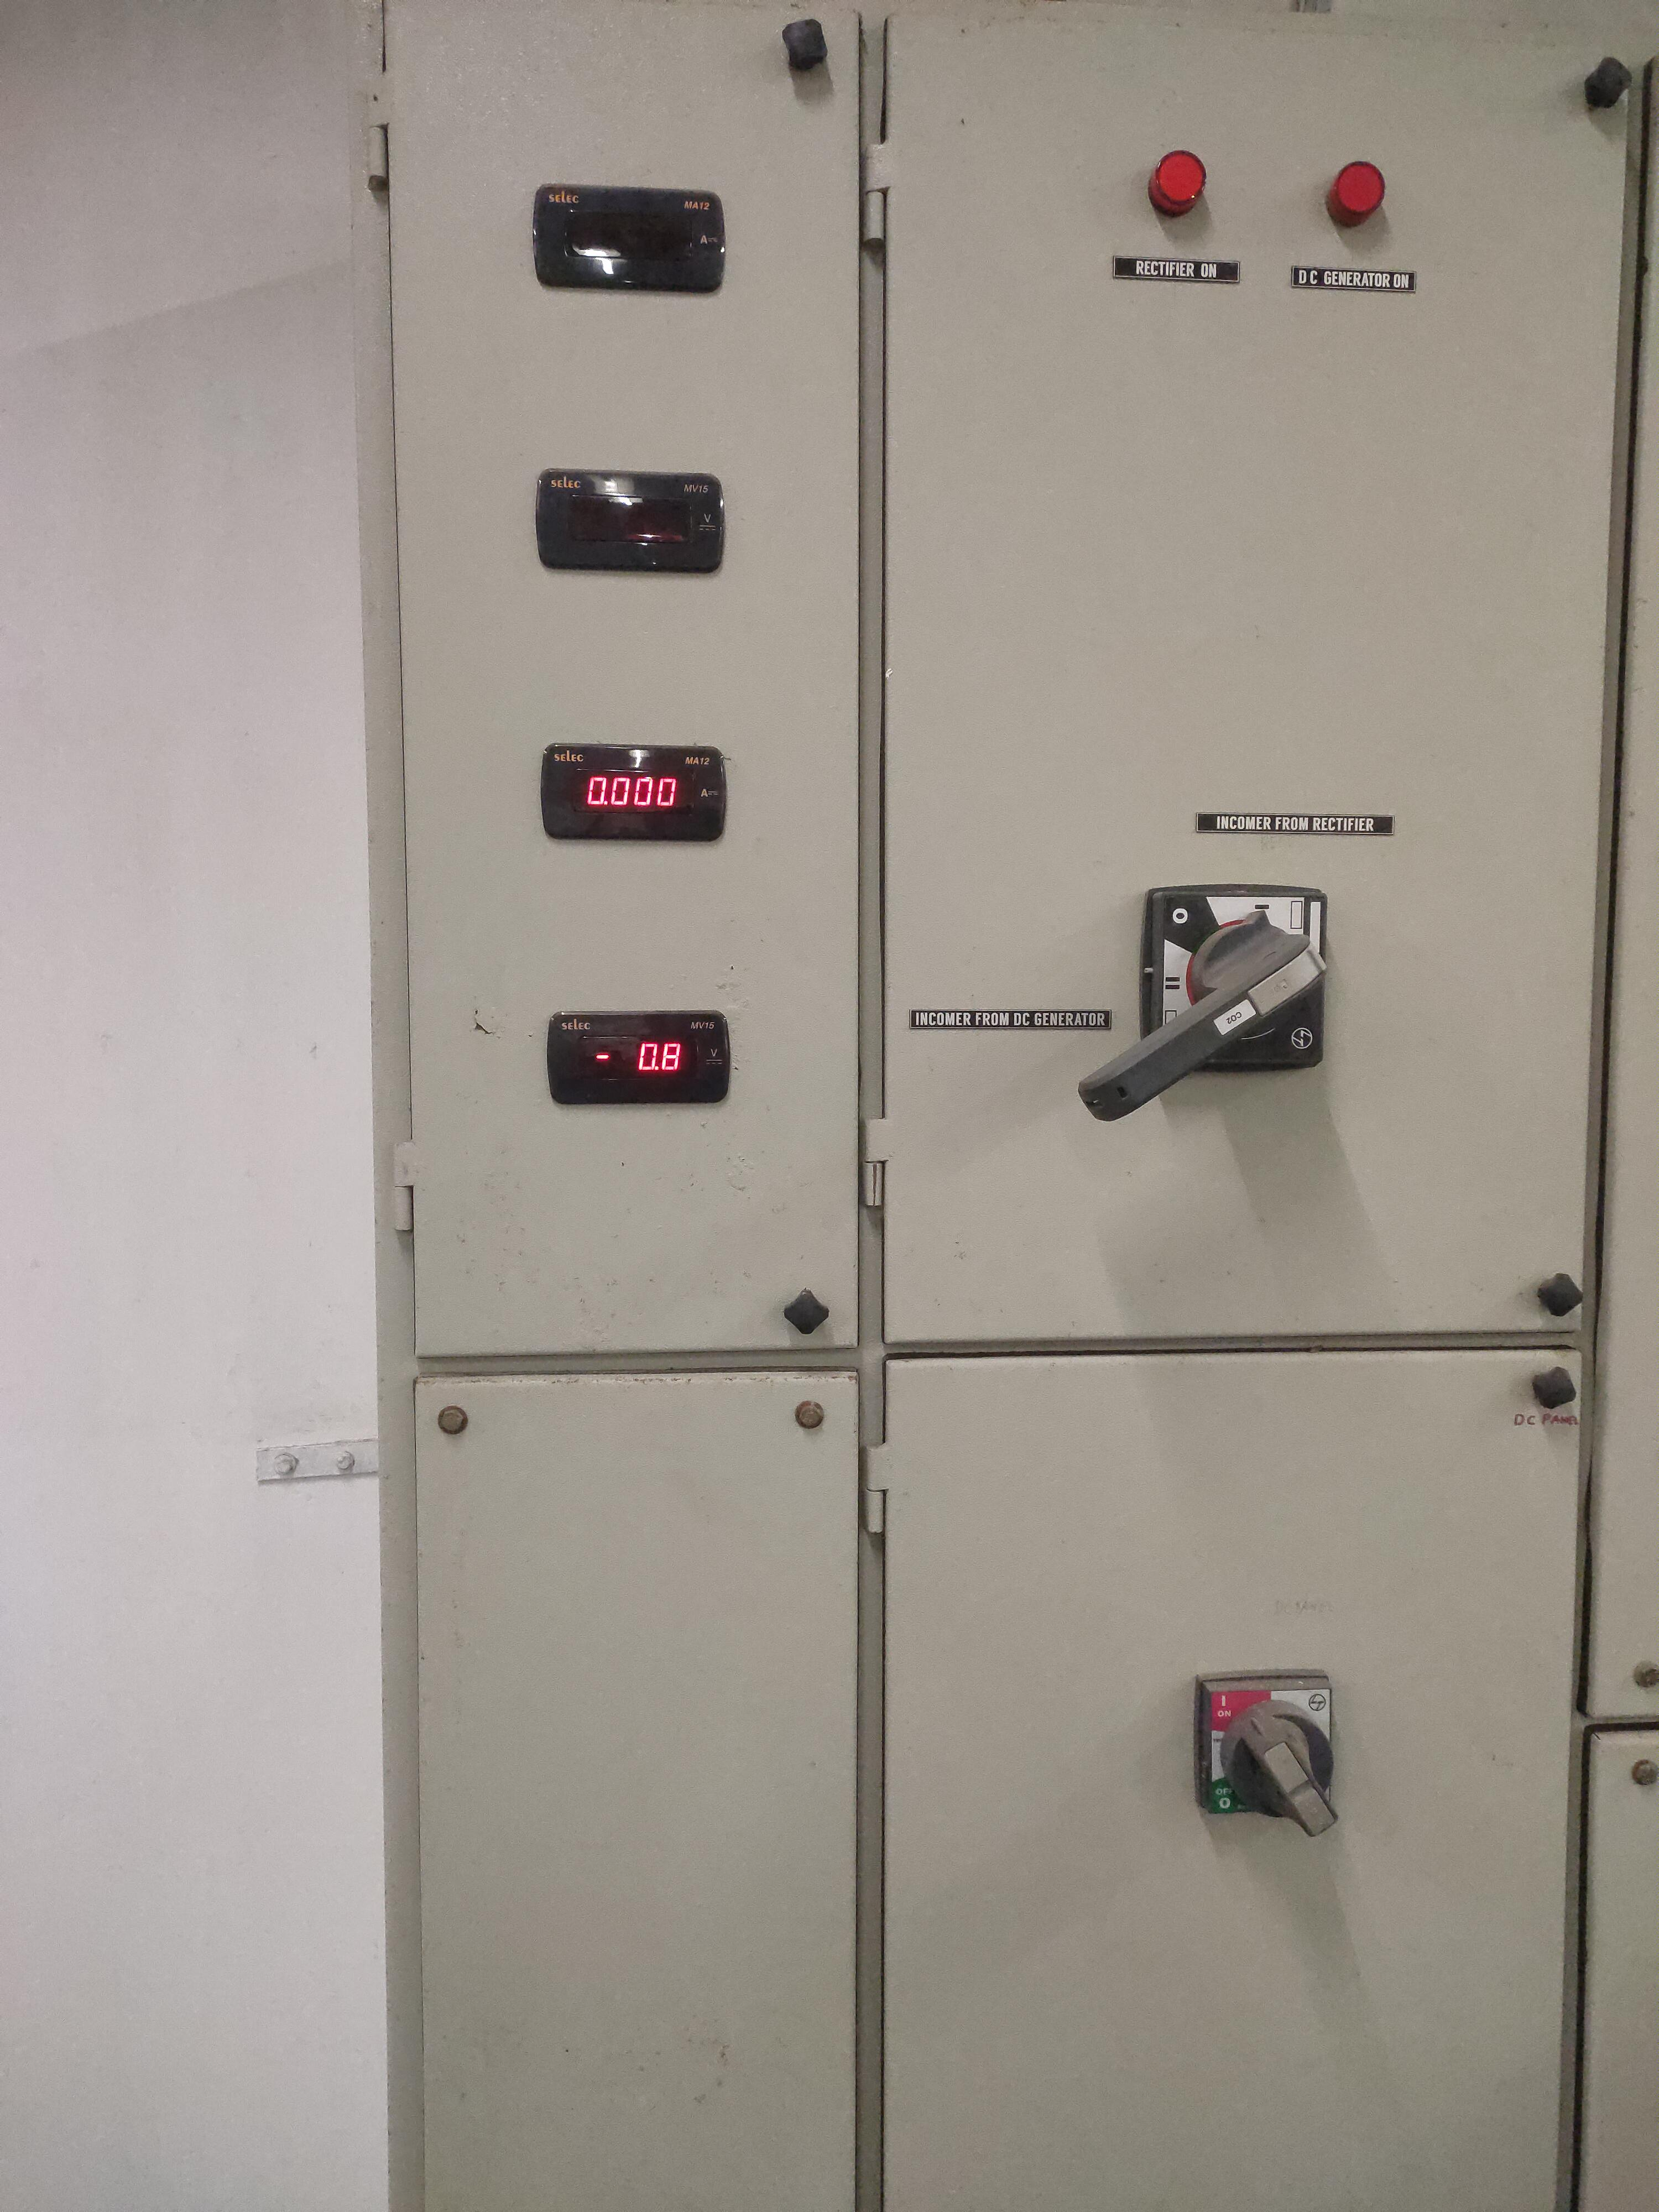Knob 1: (1049, 855, 1363, 1146)
Knob 2: (1147, 1630, 1385, 1846)
Light Indications: (1046, 136, 1443, 331)
